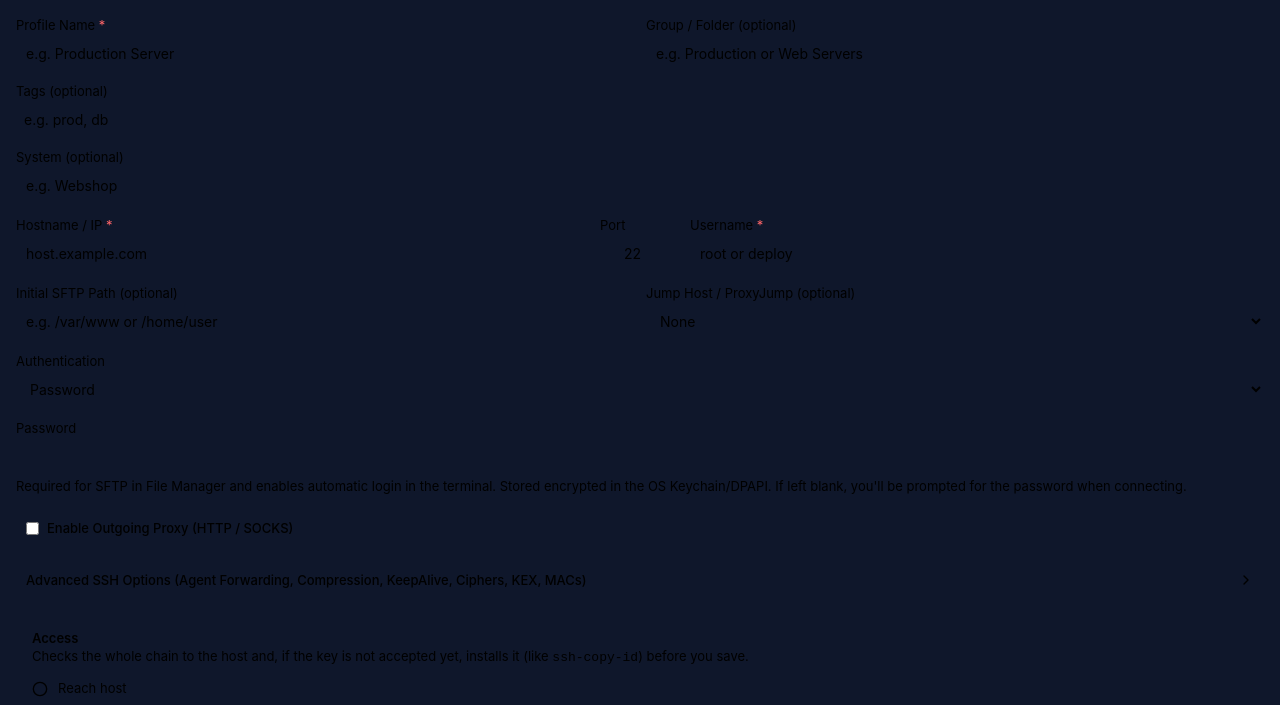
Scenario: SSHProfileForm › smartcard library default › starts on p11-kit when a smartcard profile has no library yet, and never on a module that is not installed
Select "Smartcard (PKCS#11)" in the dropdown labelled "Authentication" at (640, 390), box [16,374,1264,405]
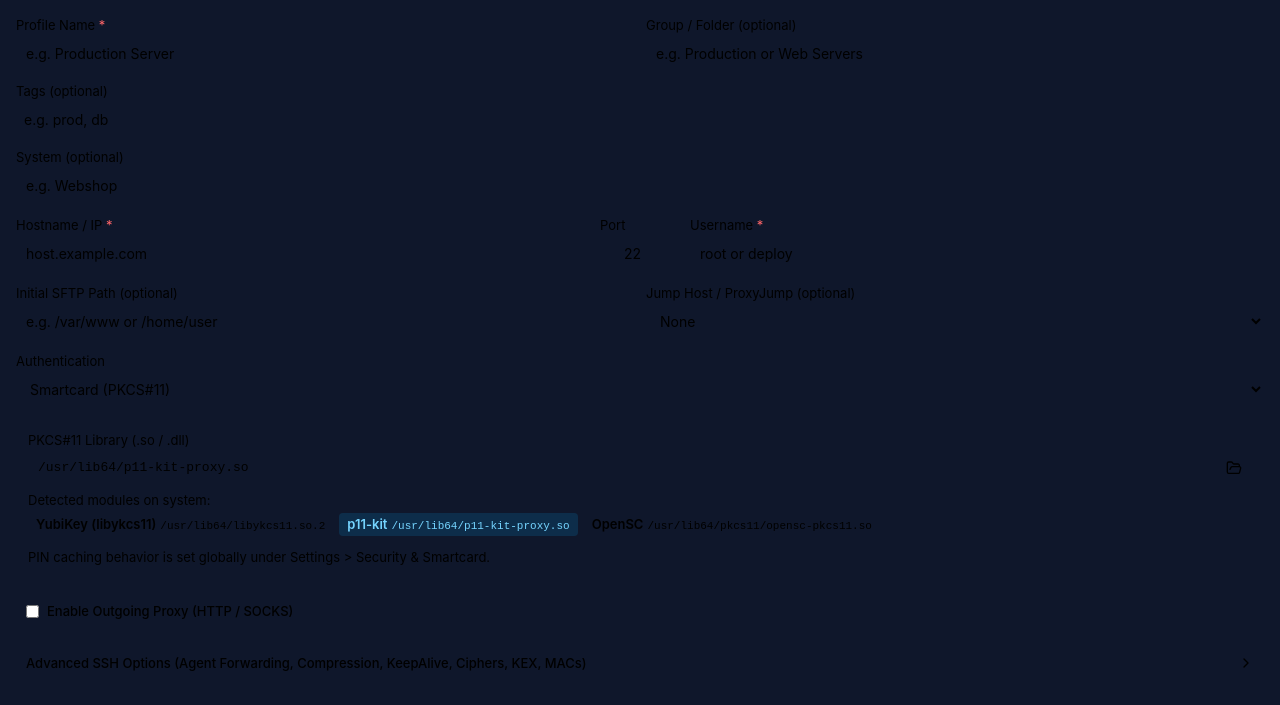
Expected: the field with placeholder "/usr/lib64/p11-kit-proxy.so" holds "/usr/lib64/p11-kit-proxy.so", [28,453,1210,483]
